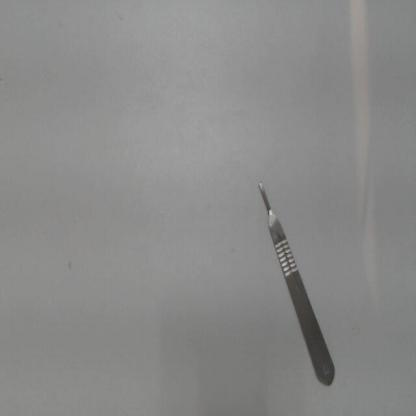No.3 BP Handle: (238, 160, 350, 403)
